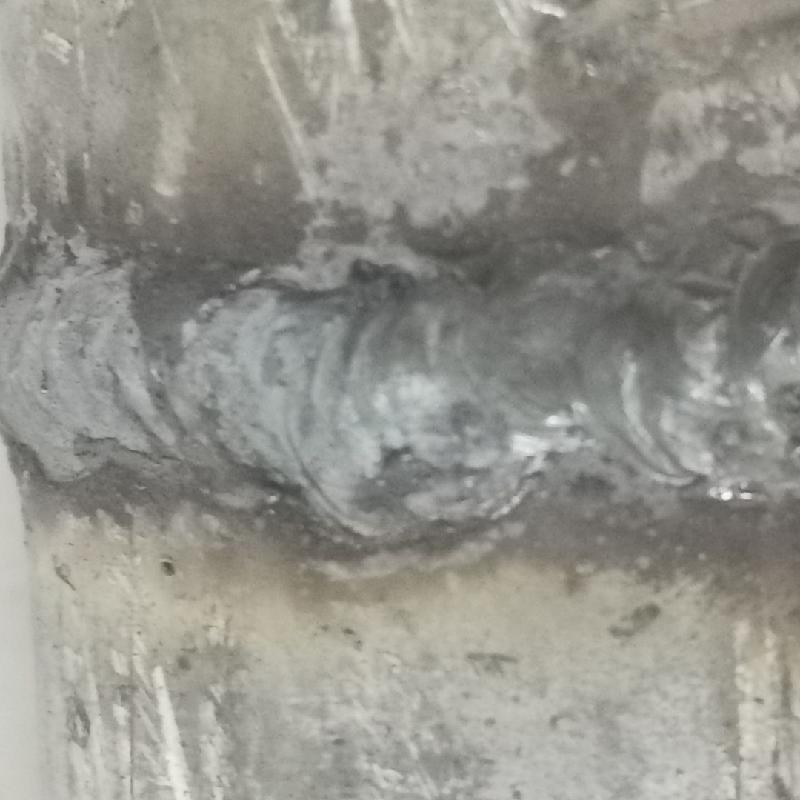good: (3, 225, 799, 556)
